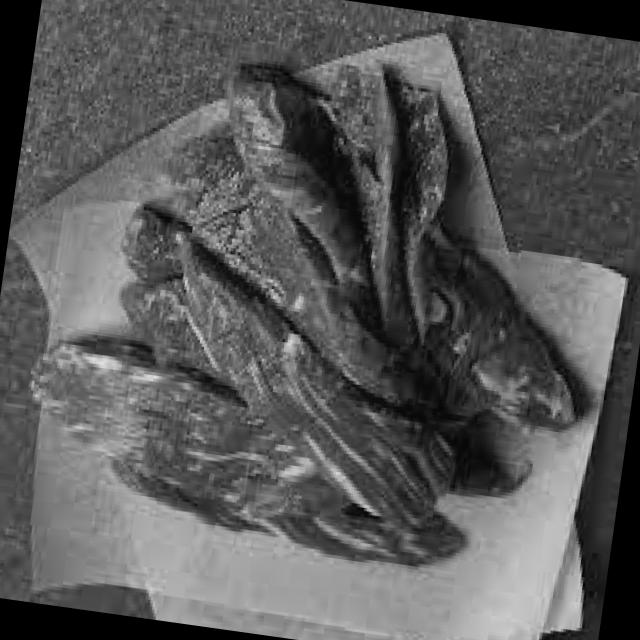meat pieces: (6, 33, 619, 586)
